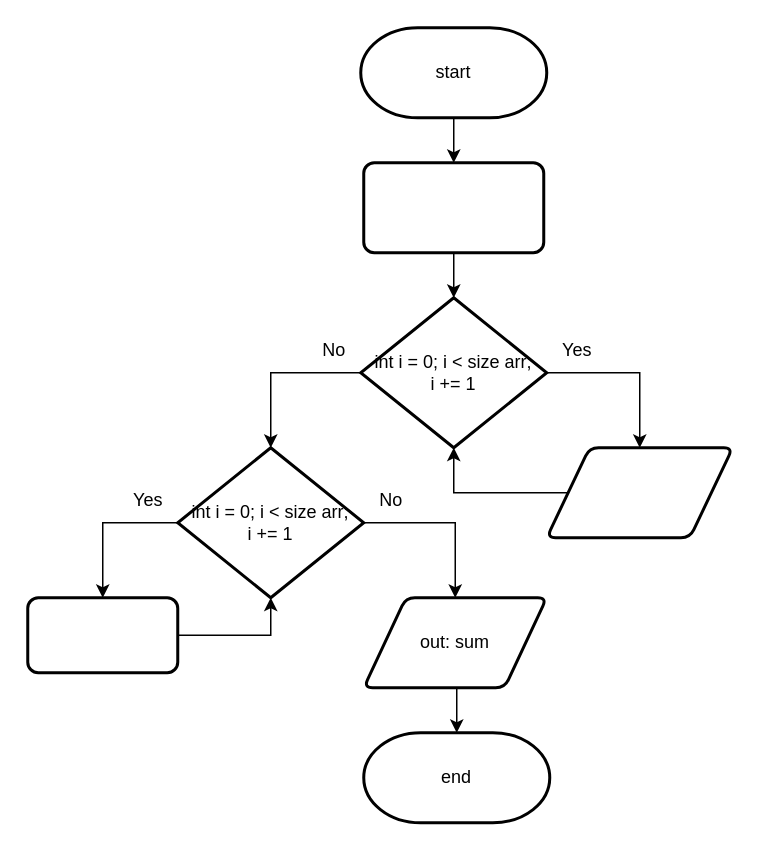
This 759x849 diagram has some shape labels left out. The centre of each missing label's shape, as x and y in pixels:
input: arr[i]: point 639,492
int sum = 0, int arr [10]: point 453,207
sum += arr[i]: point 102,635
